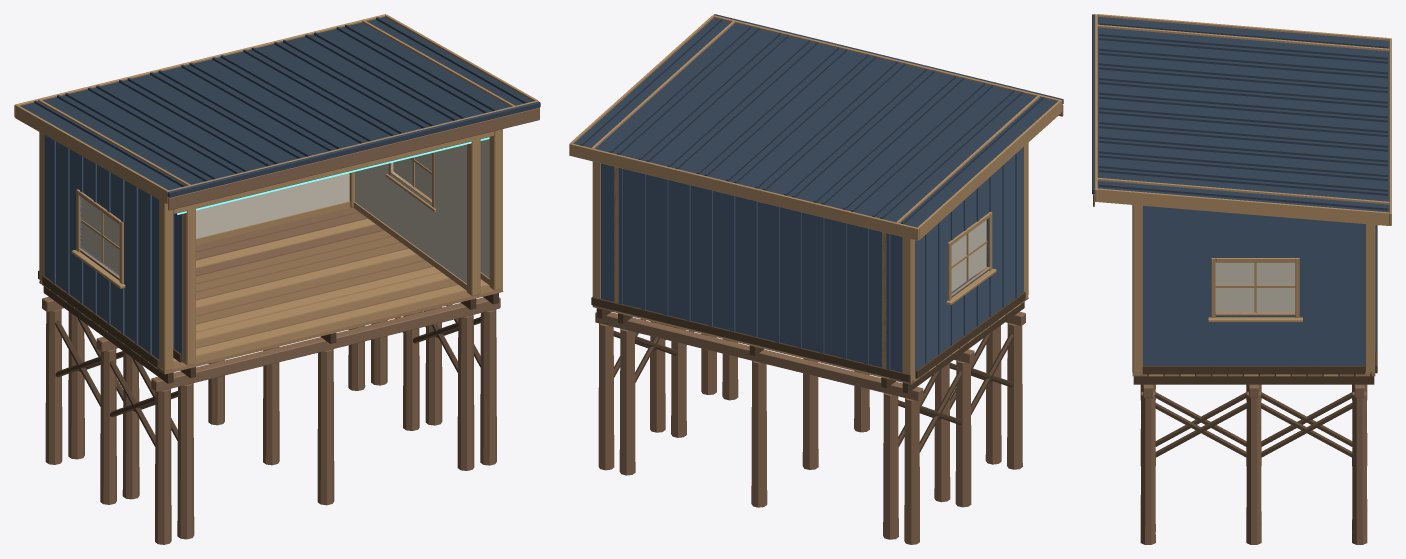
File: hut-runtime.glb
3 renders of one model, left to right at view 1: azimuth 30°, elevation 25°; view 2: azimuth 150°, elevation 25°; view 3: azimuth 270°, elevation 25°, orthographic. The views are drawn at different scales.
Parts seen in each view (by area): view 1: shell_A.part-122, shell_B.part-124, shell_A.part-077, shell_B.part-043, shell_A.part-104, shell_B.part-153, piles_B.part-019, shell_B.part-044, shell_A.part-147, floor_B.part-000, piles_B.part-022, piles_B.part-020 (+77 smaller); view 2: shell_A.part-122, shell_B.part-124, shell_A.part-103, shell_B.part-103, shell_B.part-043, shell_A.part-126, shell_B.part-128, piles_A.part-027, piles_B.part-027, shell_B.part-044, shell_A.part-105, piles_A.part-028 (+61 smaller); view 3: shell_A.part-122, shell_B.part-124, shell_B.part-073, shell_B.part-074, shell_B.part-127, shell_B.part-100, shell_B.part-075, shell_B.part-076, piles_B.part-026, piles_B.part-022, piles_B.part-030, piles_B.part-018 (+47 smaller).
Boxes of the visible parts, <box> form: shell_A.part-122: <box>43,23,510,184</box>; shell_B.part-124: <box>20,17,533,190</box>; shell_A.part-077: <box>355,165,466,283</box>; shell_B.part-043: <box>44,222,159,367</box>; shell_A.part-104: <box>196,173,349,238</box>; shell_B.part-153: <box>168,107,539,210</box>; piles_B.part-019: <box>151,297,500,391</box>; shell_B.part-044: <box>44,135,159,252</box>; shell_A.part-147: <box>192,113,516,204</box>; floor_B.part-000: <box>157,285,503,374</box>; piles_B.part-022: <box>480,309,496,465</box>; piles_B.part-020: <box>155,388,171,544</box>; shell_A.part-122: <box>595,23,1035,222</box>; shell_B.part-124: <box>574,18,1057,227</box>; shell_A.part-103: <box>622,169,881,366</box>; shell_B.part-103: <box>601,163,902,372</box>; shell_B.part-043: <box>915,241,1023,378</box>; shell_A.part-126: <box>590,148,896,235</box>; shell_B.part-128: <box>569,143,919,240</box>; piles_A.part-027: <box>617,317,900,395</box>; piles_B.part-027: <box>595,312,923,401</box>; shell_B.part-044: <box>915,147,1023,269</box>; shell_A.part-105: <box>613,302,888,377</box>; piles_A.part-028: <box>883,393,898,539</box>; shell_A.part-122: <box>1097,27,1389,201</box>; shell_B.part-124: <box>1097,17,1389,212</box>; shell_B.part-073: <box>1142,312,1365,365</box>; shell_B.part-074: <box>1142,206,1365,261</box>; shell_B.part-127: <box>1097,188,1389,225</box>; shell_B.part-100: <box>1215,262,1295,312</box>; shell_B.part-075: <box>1142,262,1211,313</box>; shell_B.part-076: <box>1299,262,1365,313</box>; piles_B.part-026: <box>1246,391,1261,544</box>; piles_B.part-022: <box>1140,391,1155,544</box>; piles_B.part-030: <box>1352,391,1367,544</box>; piles_B.part-018: <box>1133,373,1374,384</box>.
Bounding box in the file's own units: 6.58 × 6.35 × 4.75.
